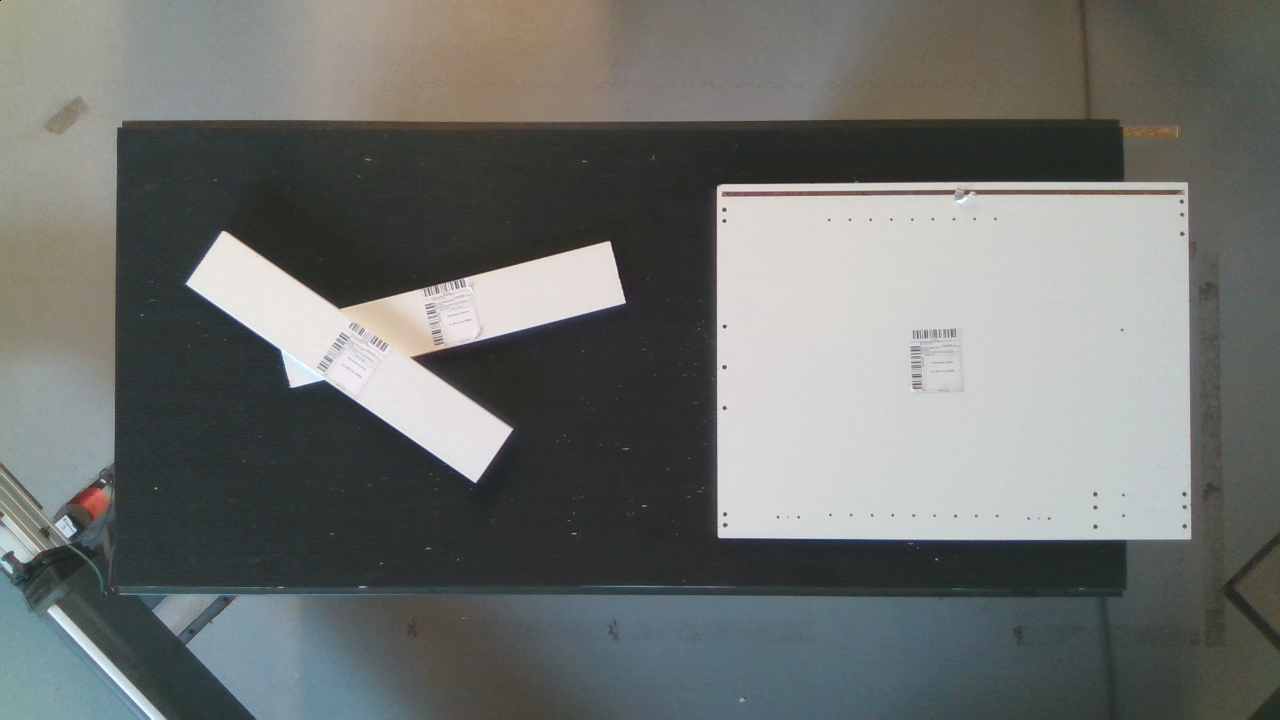barcode: (312, 308, 396, 409), (413, 268, 496, 355), (905, 322, 970, 407)
part1: (186, 224, 520, 487), (279, 235, 645, 392)
part2: (705, 172, 1212, 557)
